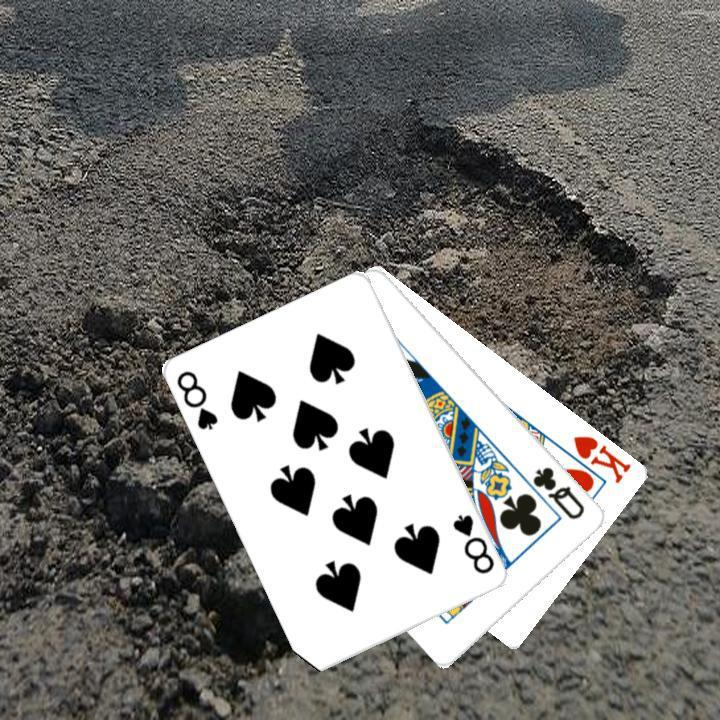8: (172, 366, 221, 433), (448, 510, 497, 576)
K: (569, 431, 634, 486)
Q: (528, 462, 588, 522)
